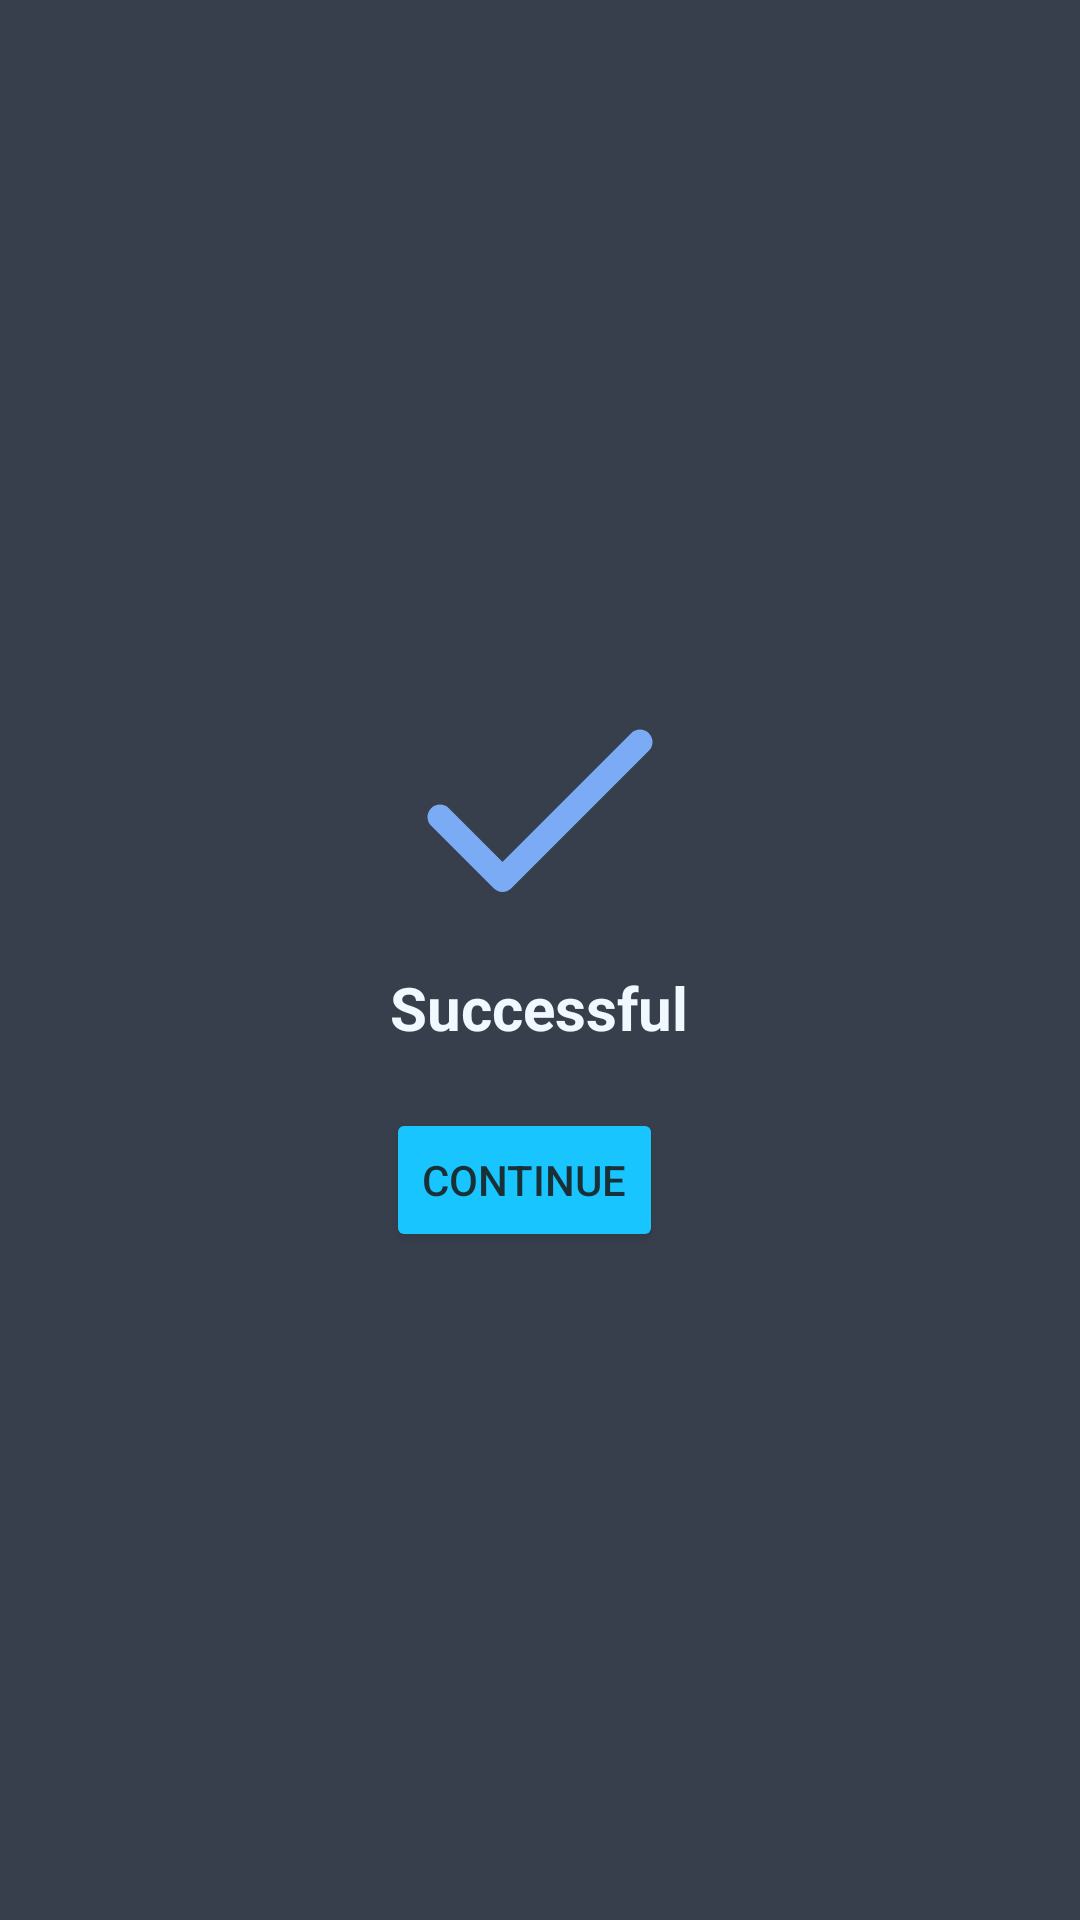

Where icons sit on this 1080w x 1920h app screen, as (x1, y1, x2, y2):
check: (427, 729, 653, 892)
